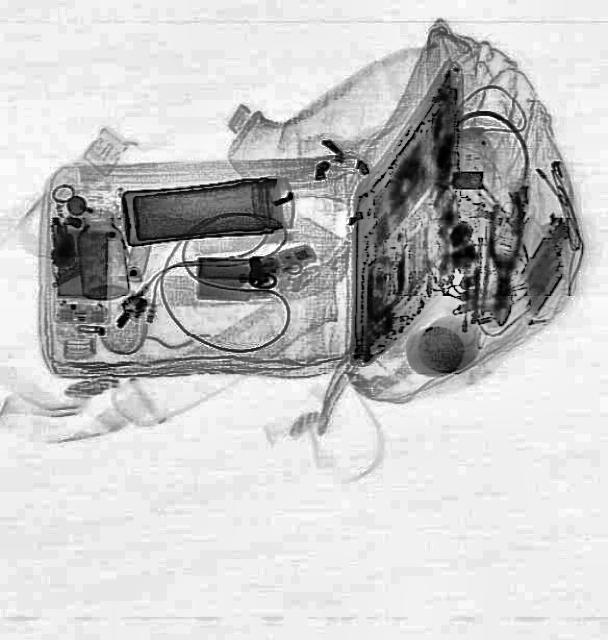Pliers: (484, 194, 524, 324)
